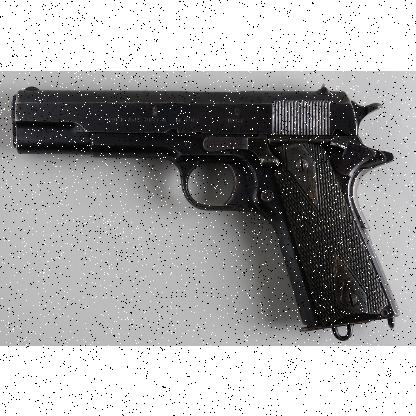gun: (12, 82, 400, 341)
